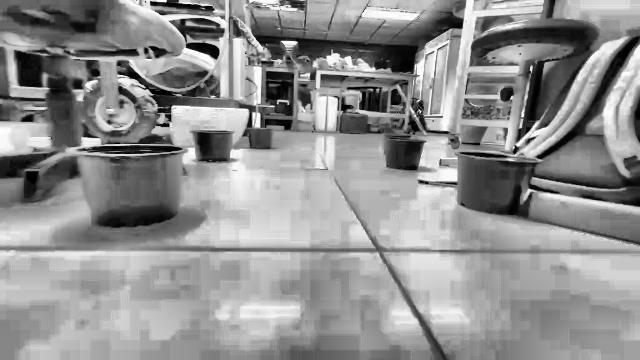pot: (68, 143, 186, 228), (456, 151, 540, 213), (191, 130, 232, 162), (385, 139, 424, 170), (248, 128, 272, 148)
